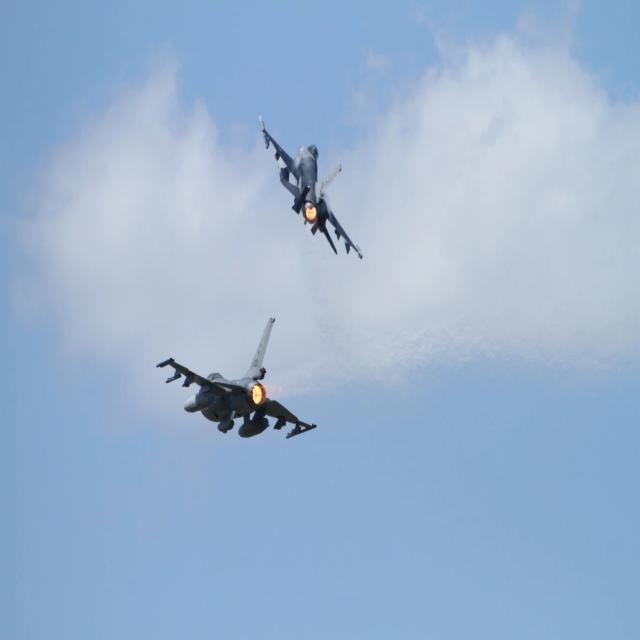MIL_Plane: (156, 316, 316, 439), (258, 115, 366, 264)
